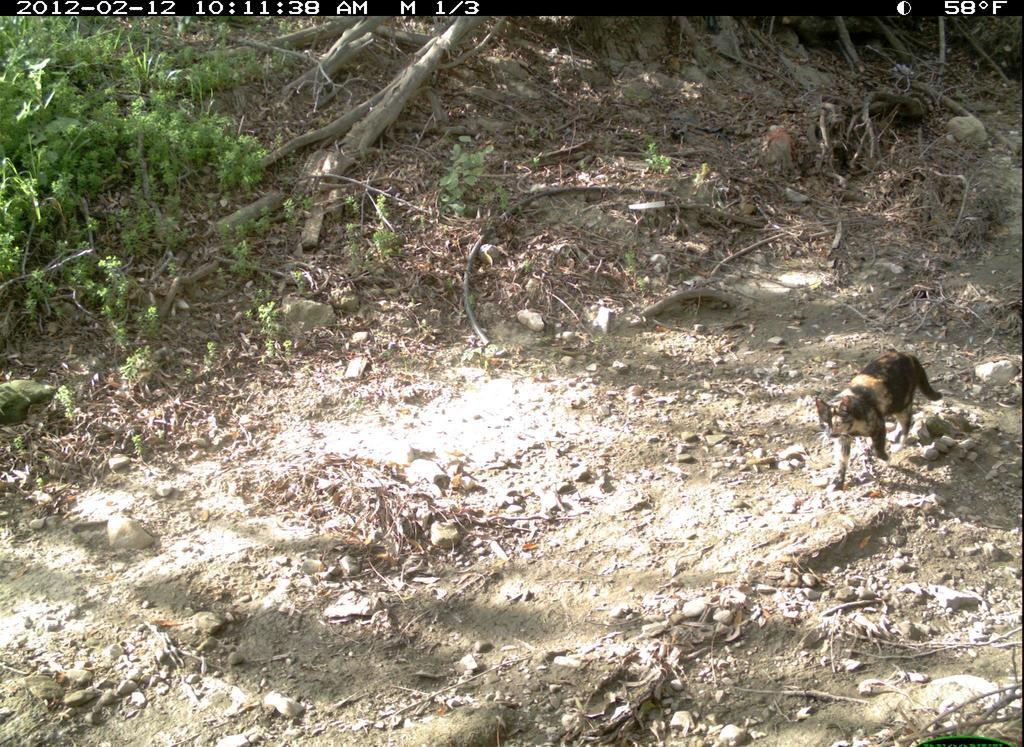cat: (808, 346, 949, 496)
